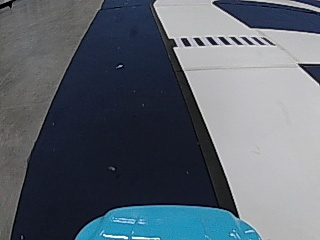CrossWalk: (169, 33, 269, 48)
